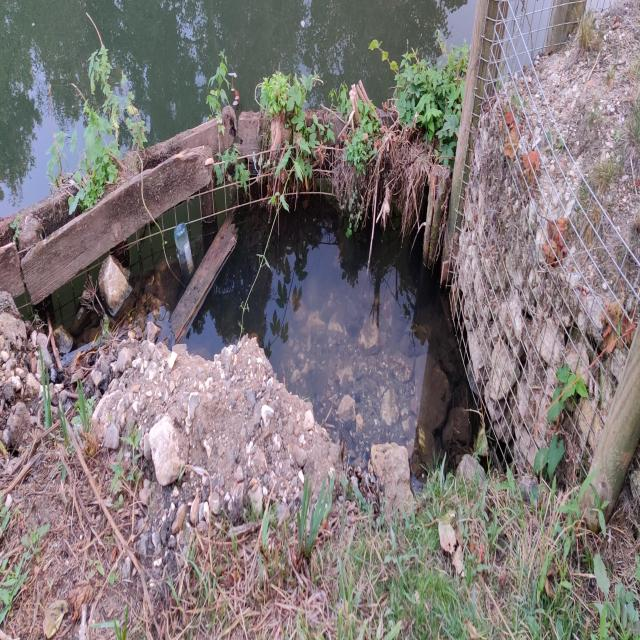litter: (175, 222, 195, 279)
